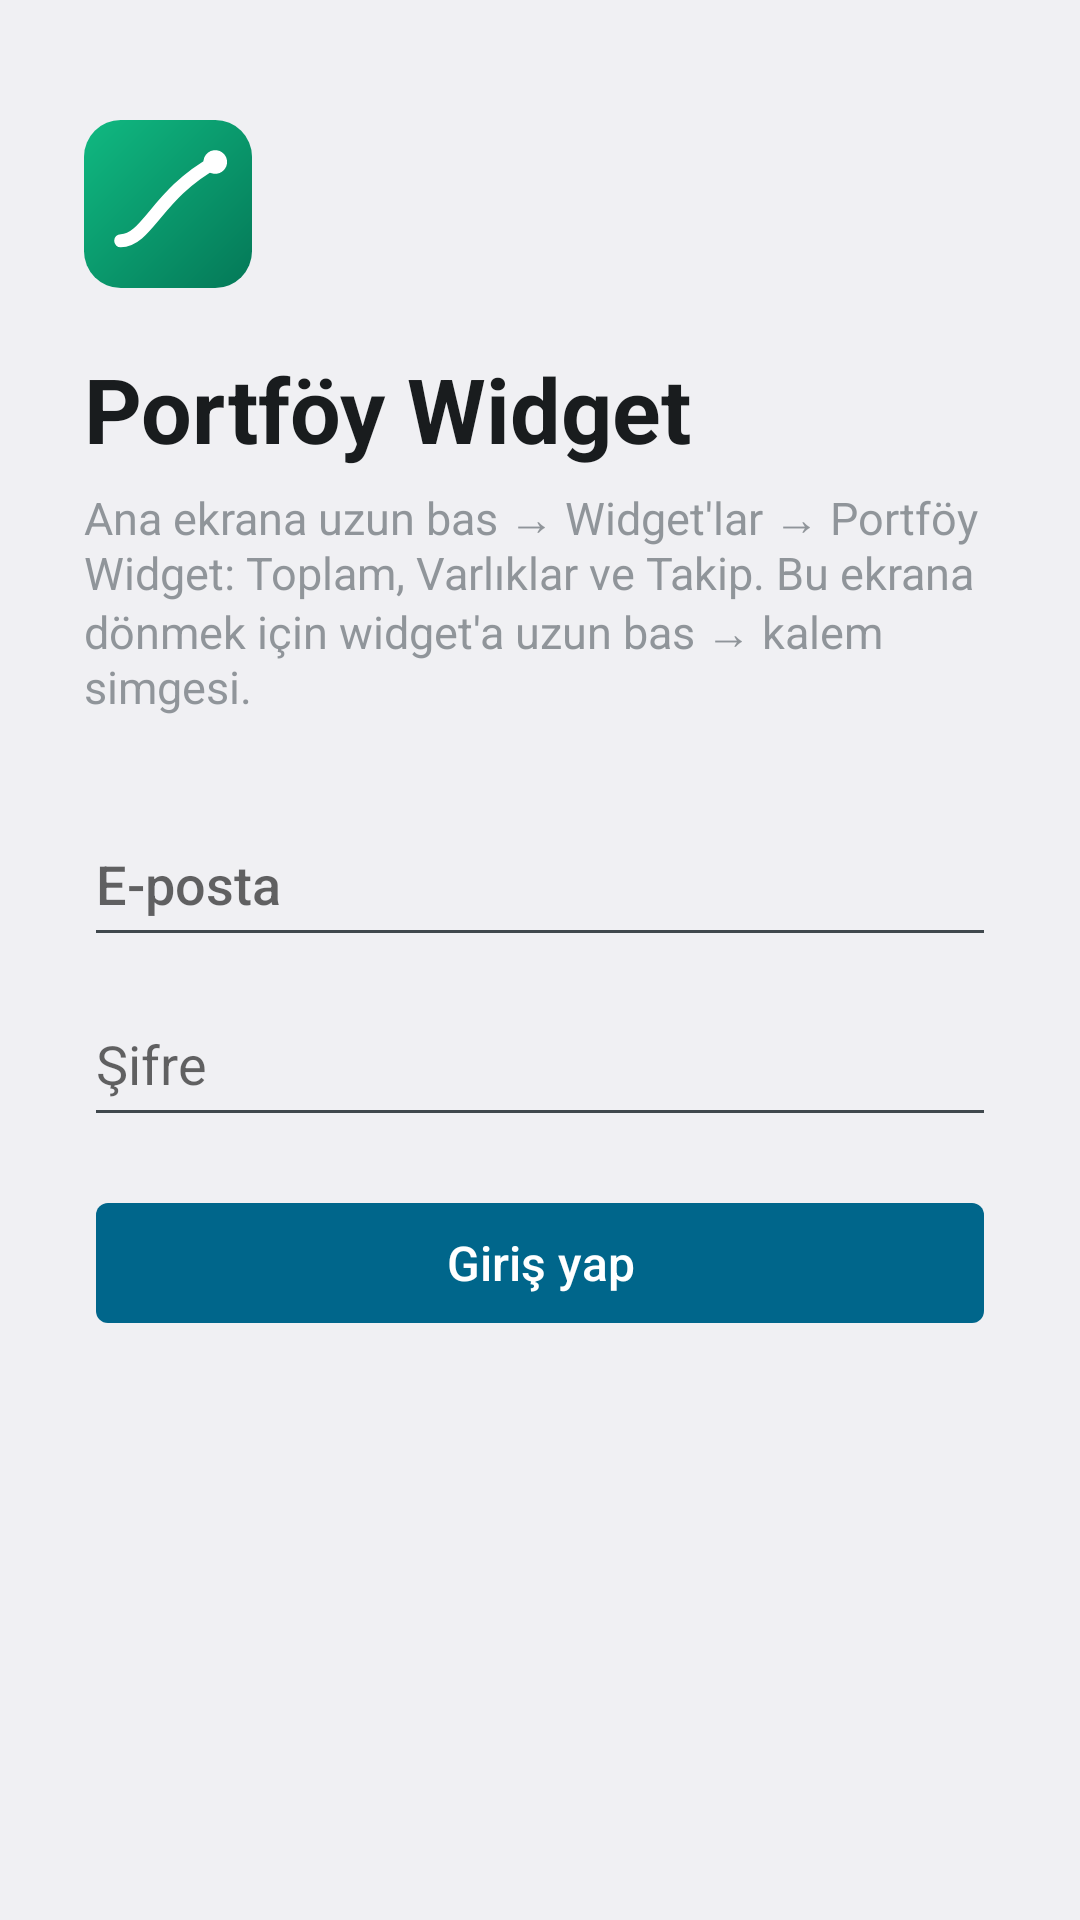

Where icons sit on this 1080px×1920px app screen, as (x1, y1, x2, y2):
mark: (84, 120, 252, 288)
